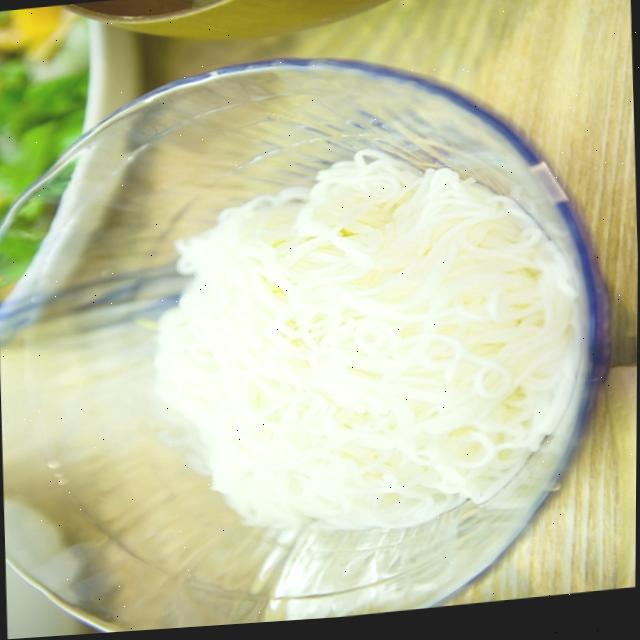面条主食: (1, 28, 606, 640)
